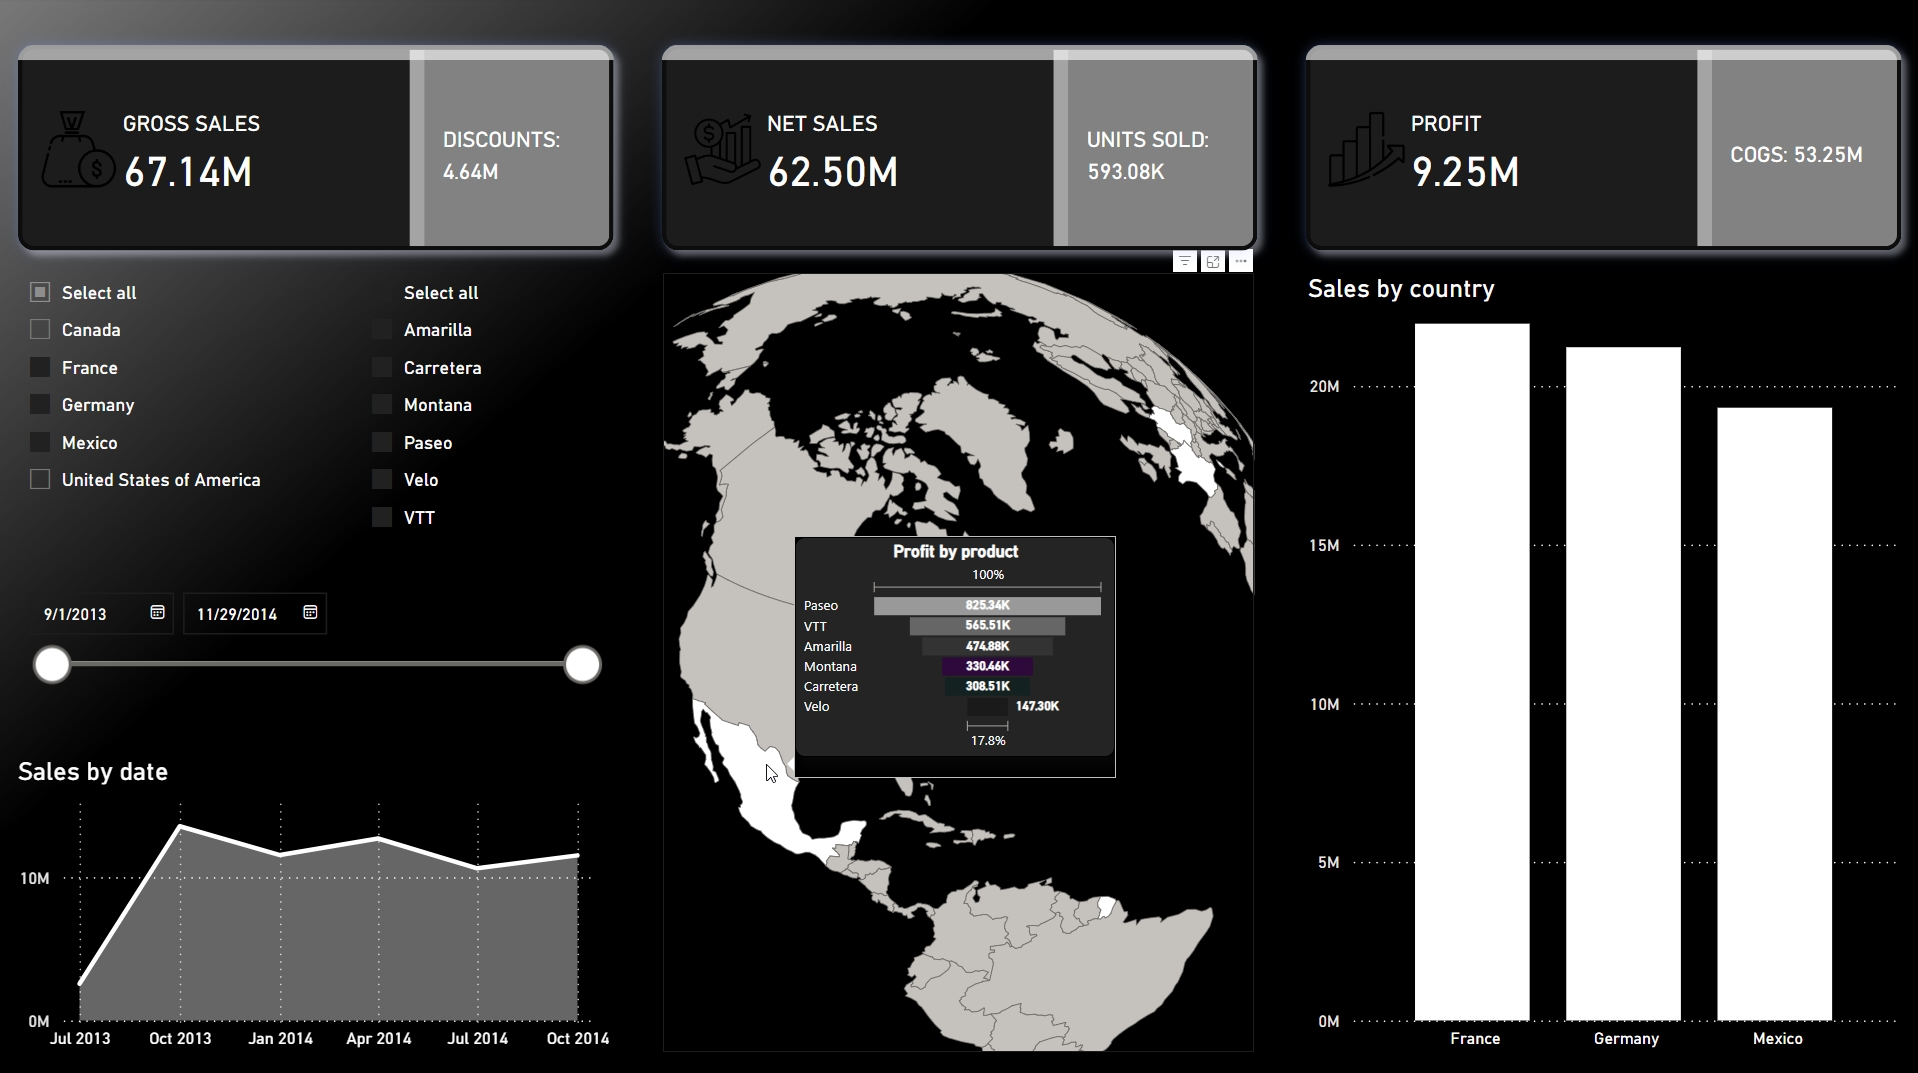

What the dashboard file says about the page in this screenshot:
{"tool":"powerbi","page":{"name":"Page 1","canvas":[1280,720],"ordinal":0},"visuals":[{"type":"shapeMap","fields":{"Category":["financials.Country"]},"box":[441.8,183.9,393.8,519.1],"z":0},{"type":"slicer","fields":{"Values":["financials.Country"]},"box":[12,183.9,199.9,195.2],"z":1000},{"type":"slicer","fields":{"Values":["financials.Date"]},"box":[12,391.8,393.8,103.9],"z":2000},{"type":"slicer","fields":{"Values":["financials.Product"]},"box":[239.9,183.9,165.9,195.2],"z":3000},{"type":"cardVisual","fields":{"Data":["Sum(financials.Gross Sales)","Sum(financials. Sales)","Sum(financials.Profit)"]},"box":[0,0,1280,201.9],"z":4000},{"type":"areaChart","title":"Sales by date","fields":{"Category":["financials.Date.Variation.Date Hierarchy.Year","financials.Date.Variation.Date Hierarchy.Quarter"],"Y":["Sum(financials. Sales)"]},"box":[12,505.7,393.8,197.2],"z":5000},{"type":"clusteredColumnChart","title":"Sales by country","fields":{"Y":["Sum(financials. Sales)"],"Category":["financials.Country"]},"box":[871.5,183.9,393.8,519.1],"z":5001}]}

Visuals, with their boxes in screenshot pixels (x1, y1, x2, y2), scaled from the page's 1280x720 canvas onto the 1918x1073 screenshot:
shapeMap - financials.Country: [662, 274, 1252, 1048]
slicer - financials.Country: [18, 274, 318, 565]
slicer - financials.Date: [18, 584, 608, 739]
slicer - financials.Product: [359, 274, 608, 565]
cardVisual - Sum(financials.Gross Sales) x Sum(financials. Sales): [0, 0, 1917, 301]
"Sales by date" areaChart: [18, 754, 608, 1048]
"Sales by country" clusteredColumnChart: [1306, 274, 1896, 1048]
